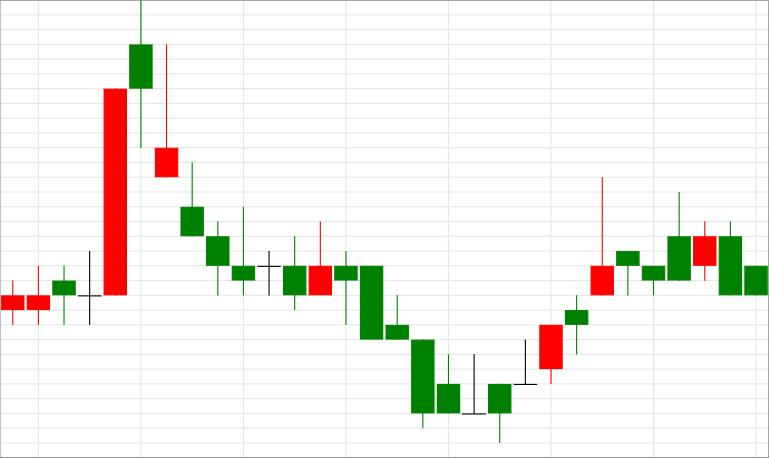shooting_star_fall: (488, 178, 614, 444)
